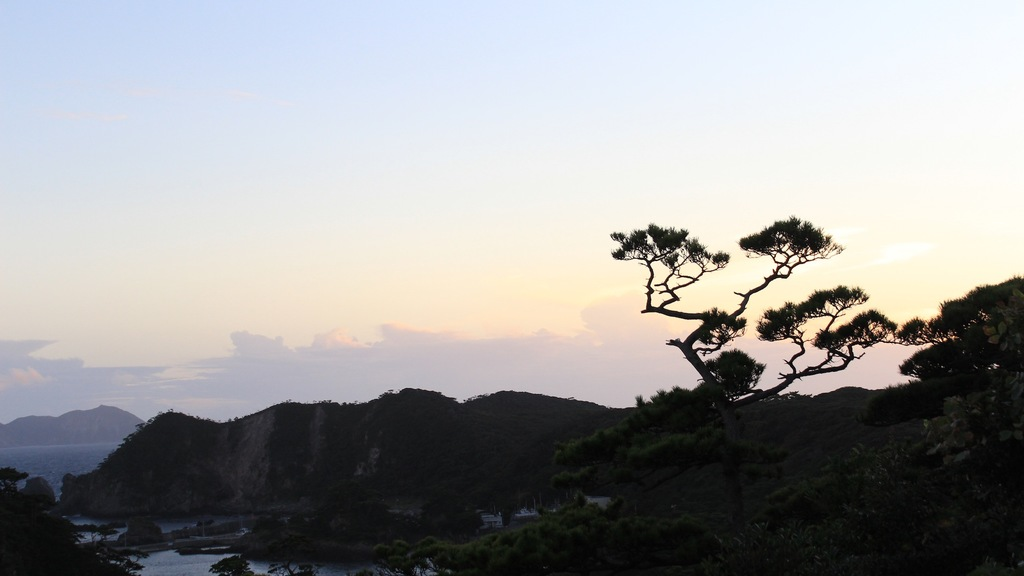Tree: (601, 216, 935, 447), (877, 271, 1023, 401)
